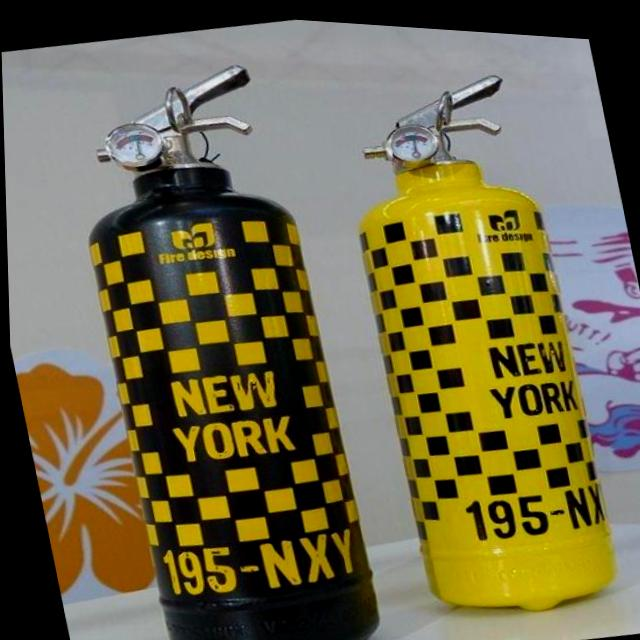FireExtinguisher: (46, 37, 391, 640), (317, 49, 631, 636)
